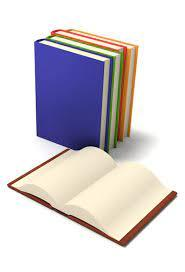book: (6, 145, 177, 246), (32, 23, 142, 150)
